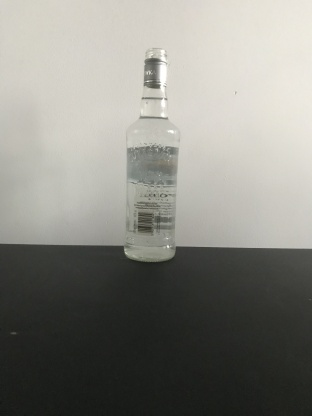nakretka: (142, 47, 169, 89)
